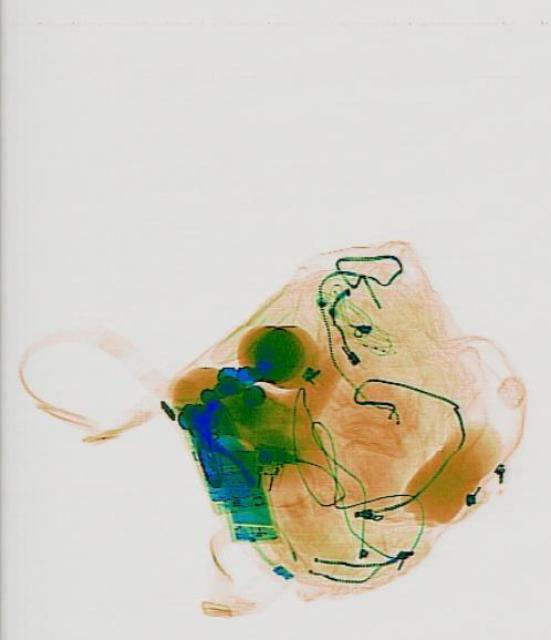Pliers: (179, 406, 253, 502)
